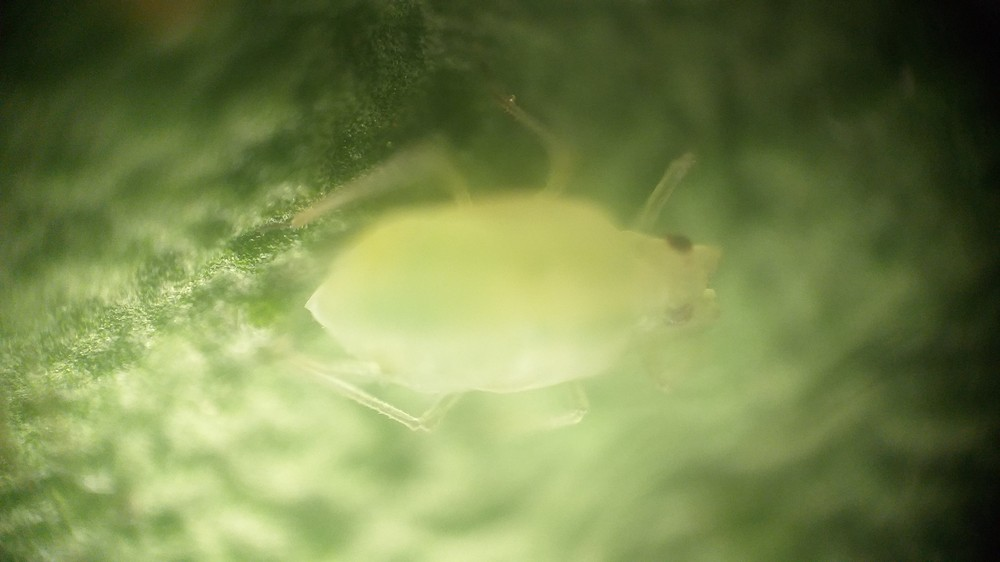Pulgon: (266, 90, 761, 489)
